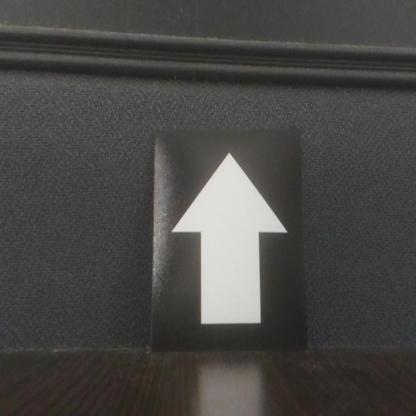up: (153, 132, 307, 351)
